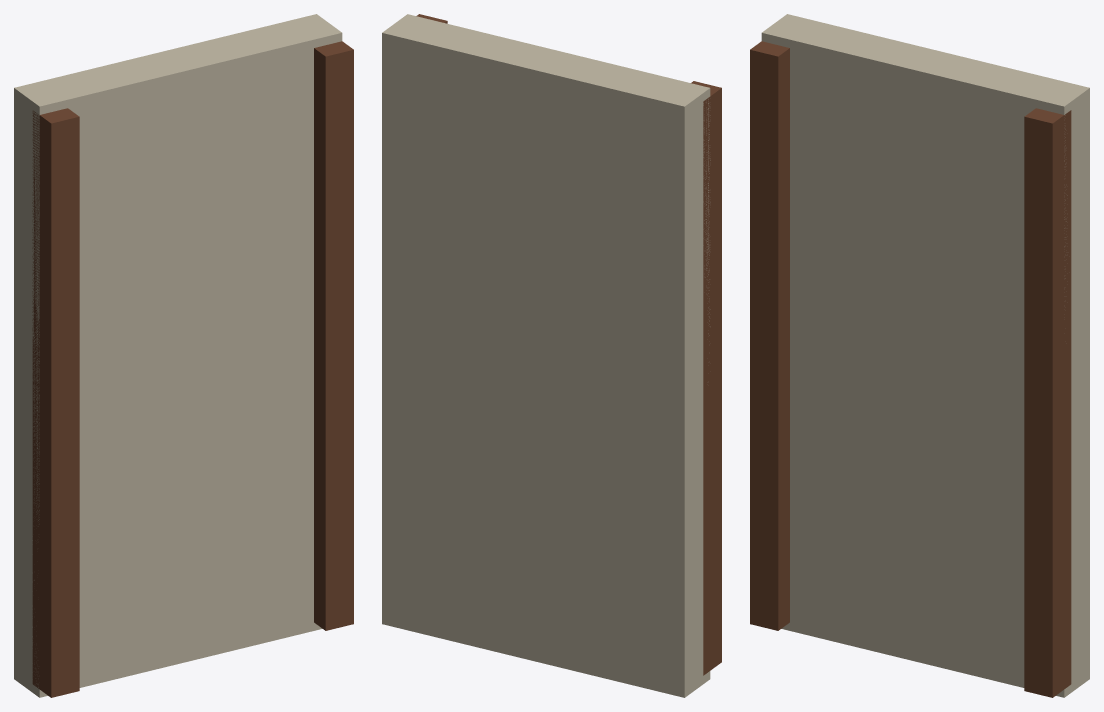
File: wk_facade_wall_v01.glb
3 renders of one model, left to right at view 1: azimuth 30°, elevation 25°; view 2: azimuth 150°, elevation 25°; view 3: azimuth 330°, elevation 25°, orthographic.
Visible parts, largest first — view 1: GEO_WallPanel, GEO_WallPost-1, GEO_WallPost+1; view 2: GEO_WallPanel, GEO_WallPost-1; view 3: GEO_WallPanel, GEO_WallPost+1, GEO_WallPost-1.
Boxes of the visible parts, x1,y1,x2,y2 form: GEO_WallPanel: [14, 14, 342, 697]; GEO_WallPost-1: [32, 108, 79, 697]; GEO_WallPost+1: [314, 41, 353, 630]; GEO_WallPanel: [382, 14, 710, 697]; GEO_WallPost-1: [691, 81, 721, 675]; GEO_WallPanel: [761, 14, 1089, 697]; GEO_WallPost+1: [1024, 108, 1071, 697]; GEO_WallPost-1: [750, 41, 789, 630].
Bounding box in the file's own units: 1.5 × 2.8 × 0.32.
